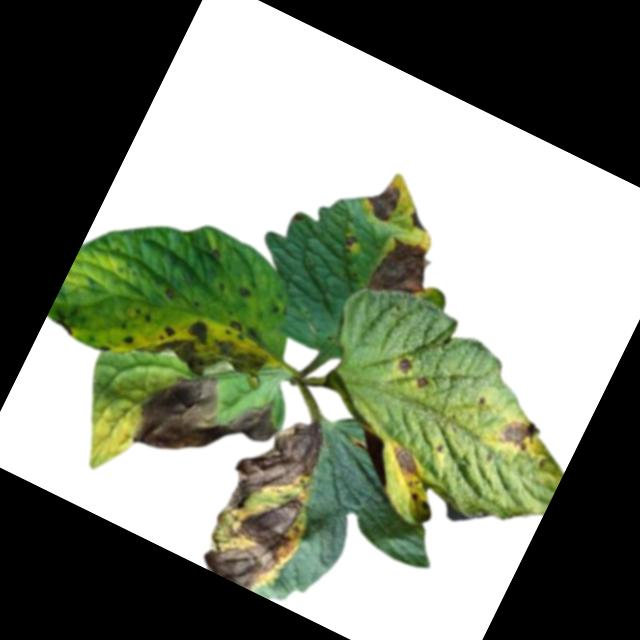Early_blight: (190, 399, 351, 600), (124, 354, 285, 497), (139, 290, 278, 405), (366, 232, 440, 312), (493, 412, 541, 458), (359, 177, 404, 226), (383, 438, 429, 485), (405, 206, 434, 235), (52, 316, 78, 338), (392, 354, 415, 378), (412, 373, 431, 394), (341, 234, 359, 256), (236, 286, 252, 301), (121, 335, 135, 349)
